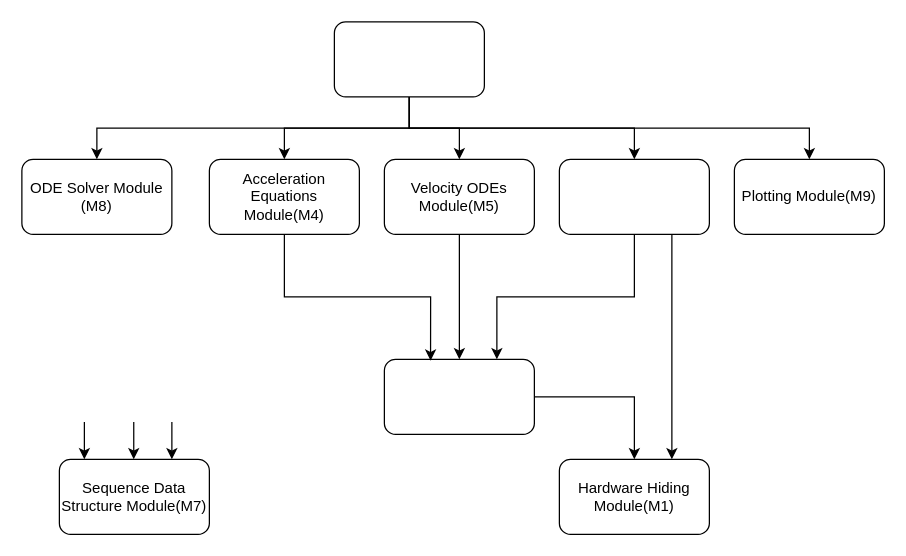
This 906x556 diagram has some shape labels left out. The centre of each missing label's shape, as x and y in pixels:
"Control Module (M6)" belongs at [408,59].
"Input Parameters Module(M2)" belongs at [458,396].
"Output Format Module(M3)" belongs at [633,196].
